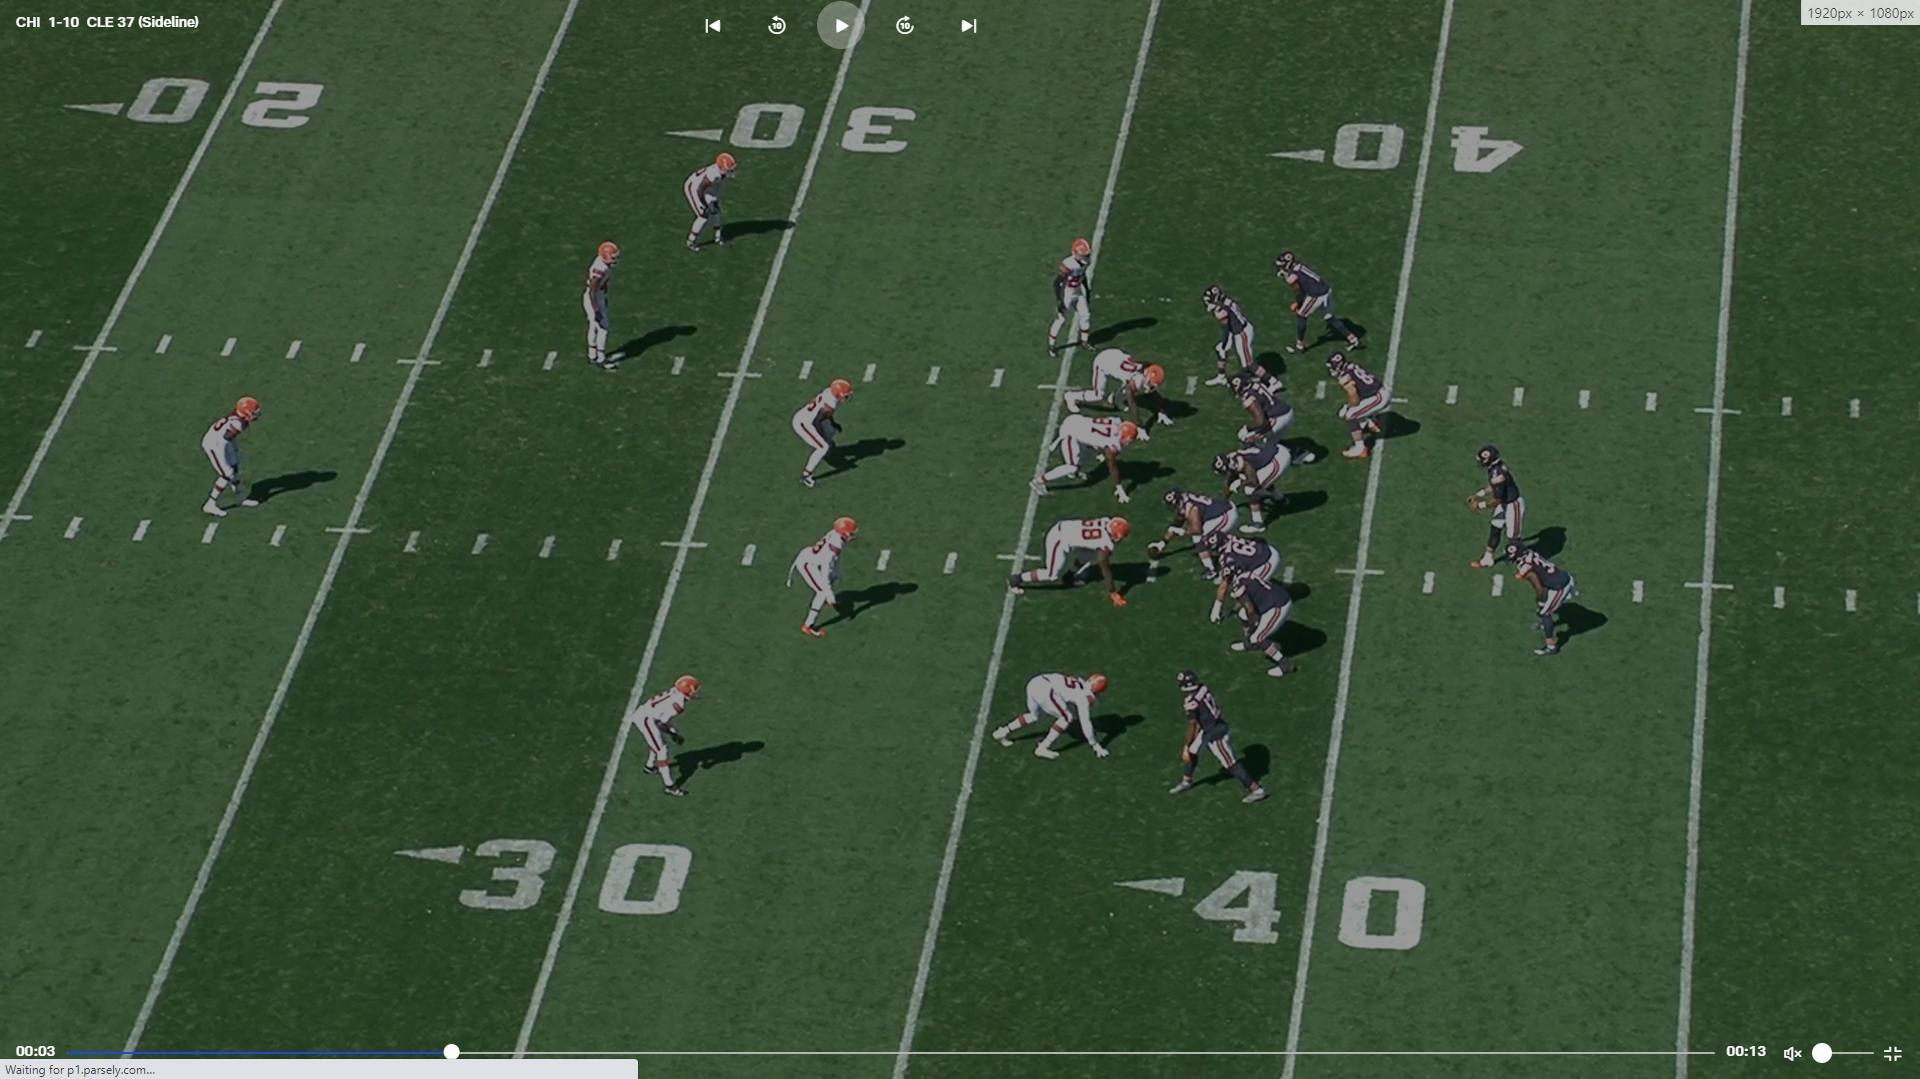player: (1165, 668, 1270, 816), (990, 671, 1115, 767), (1011, 519, 1133, 610), (1272, 249, 1368, 361), (1025, 418, 1143, 505), (1060, 348, 1173, 435), (1462, 439, 1531, 574), (794, 514, 864, 643), (634, 672, 702, 803), (1223, 562, 1297, 681), (1147, 487, 1241, 580), (1511, 538, 1581, 661), (1324, 350, 1395, 464), (1204, 284, 1277, 392), (203, 396, 264, 524), (1236, 372, 1315, 469), (1207, 534, 1287, 628), (1046, 235, 1105, 358), (797, 374, 859, 490), (1216, 444, 1291, 533), (582, 238, 629, 372), (686, 147, 744, 253)
